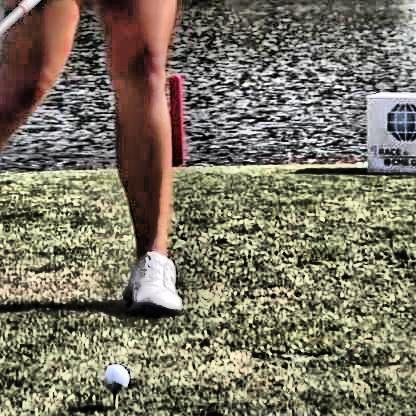golfball: (99, 361, 128, 391)
